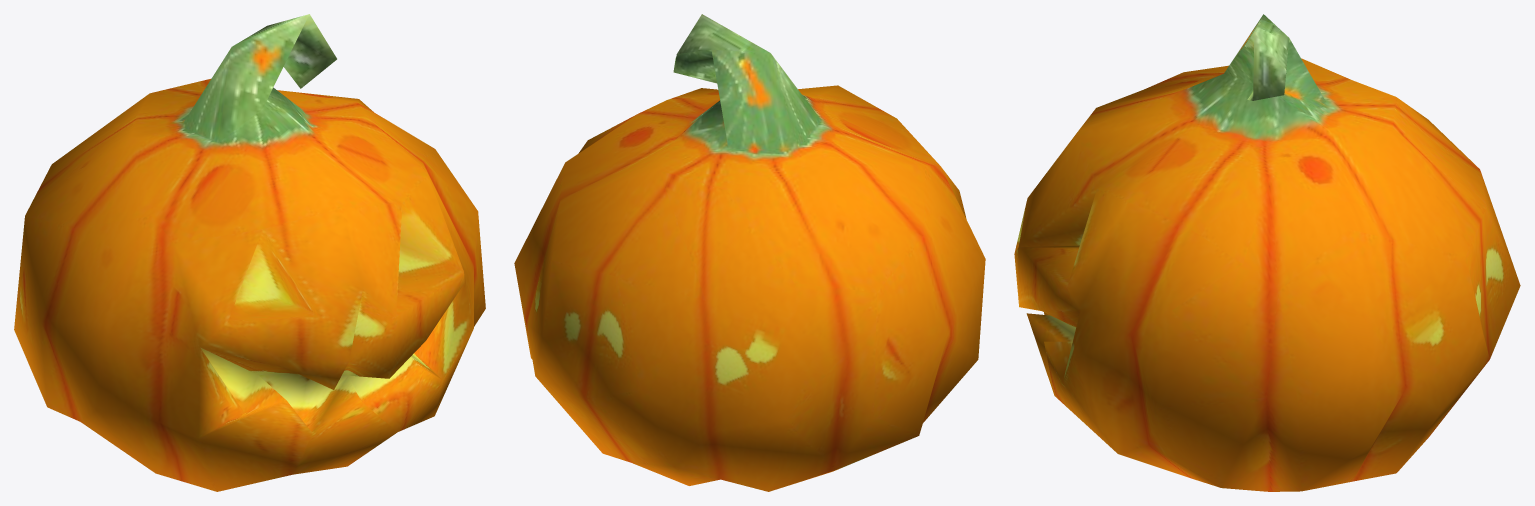
File: pumpkin.glb
The picture shows the model from 3 angles, left to right: view 1: azimuth 30°, elevation 25°; view 2: azimuth 150°, elevation 25°; view 3: azimuth 270°, elevation 25°; orthographic projection. The views are drawn at different scales.
Parts seen in each view (by area): view 1: Prop_Pumpkin; view 2: Prop_Pumpkin; view 3: Prop_Pumpkin.
Boxes of the visible parts, <box> form: Prop_Pumpkin: <box>14,14,485,491</box>; Prop_Pumpkin: <box>514,14,985,491</box>; Prop_Pumpkin: <box>1014,14,1520,491</box>.
Size of the model in its own units: 0.467 by 0.4464 by 0.473.
Materials: 1 (1 with a texture image).
